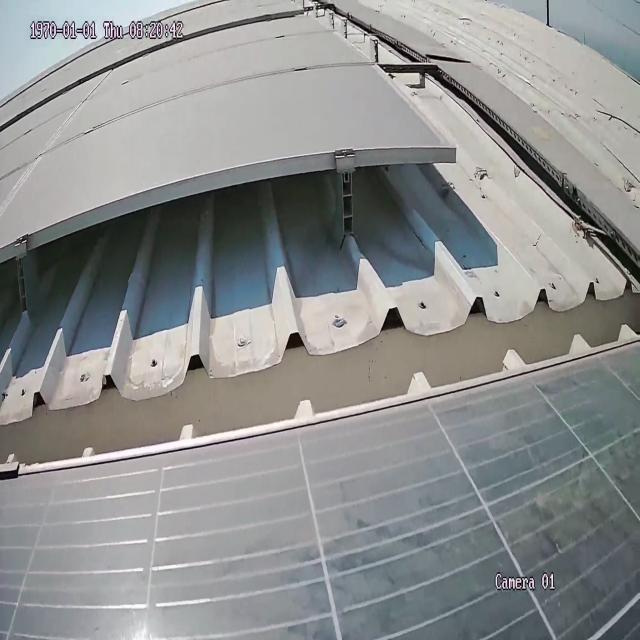interior panel: (0, 85, 109, 224)
outher panel: (0, 0, 640, 477)
